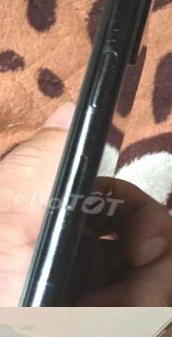scratch: (48, 196, 86, 287), (12, 283, 58, 307)
